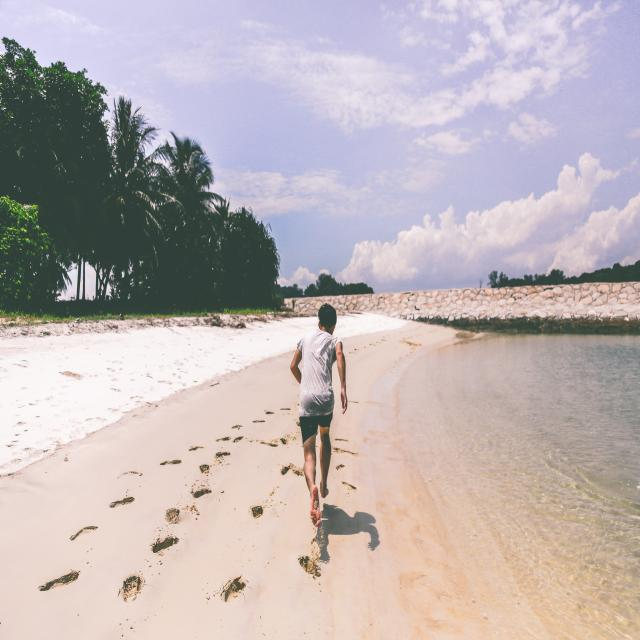standing: (288, 303, 349, 535)
